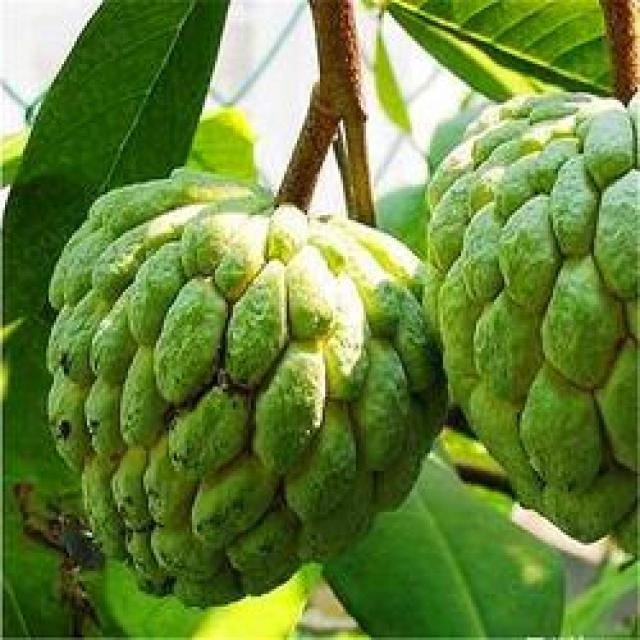custard_apple: (36, 151, 445, 614)
